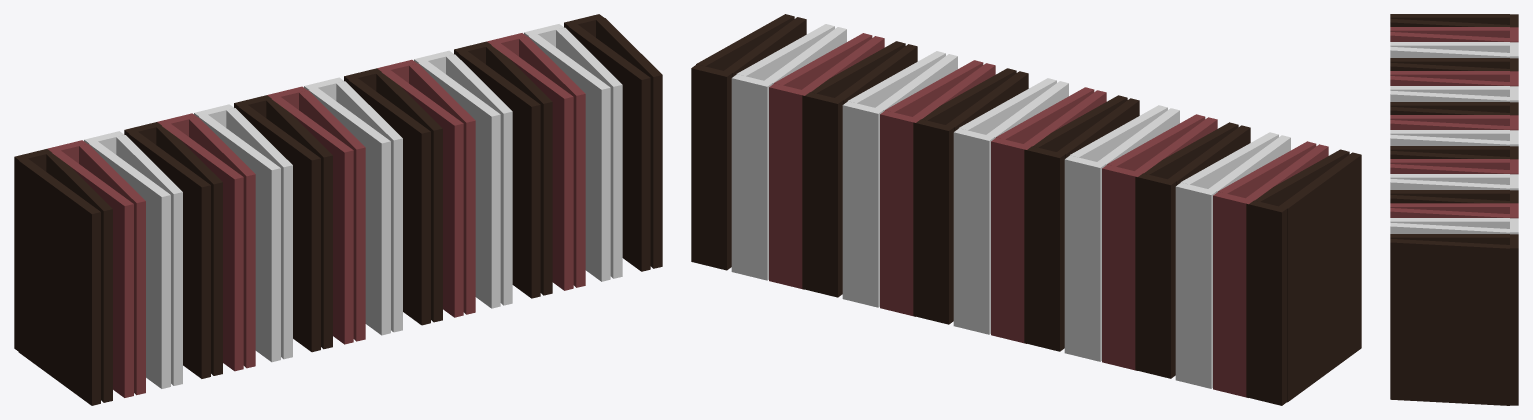
The model's file is livres.glb.
3 views of the same model, side by side, from view 1: azimuth 30°, elevation 25°; view 2: azimuth 150°, elevation 25°; view 3: azimuth 270°, elevation 25° (orthographic). The views are drawn at different scales.
Parts seen in each view (by area): view 1: Livres 1; view 2: Livres 1; view 3: Livres 1.
Boxes of the visible parts, x1,y1,x2,y2 form: Livres 1: [14, 14, 662, 405]; Livres 1: [691, 14, 1361, 405]; Livres 1: [1390, 14, 1518, 405].
Bounding box in the file's own units: 9.87 × 3.09 × 2.28.
